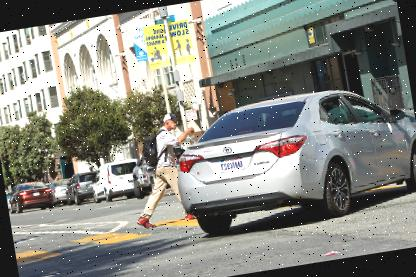car: (165, 70, 416, 246), (87, 149, 142, 204), (4, 175, 57, 219), (59, 166, 102, 208)
person: (120, 106, 201, 230)
